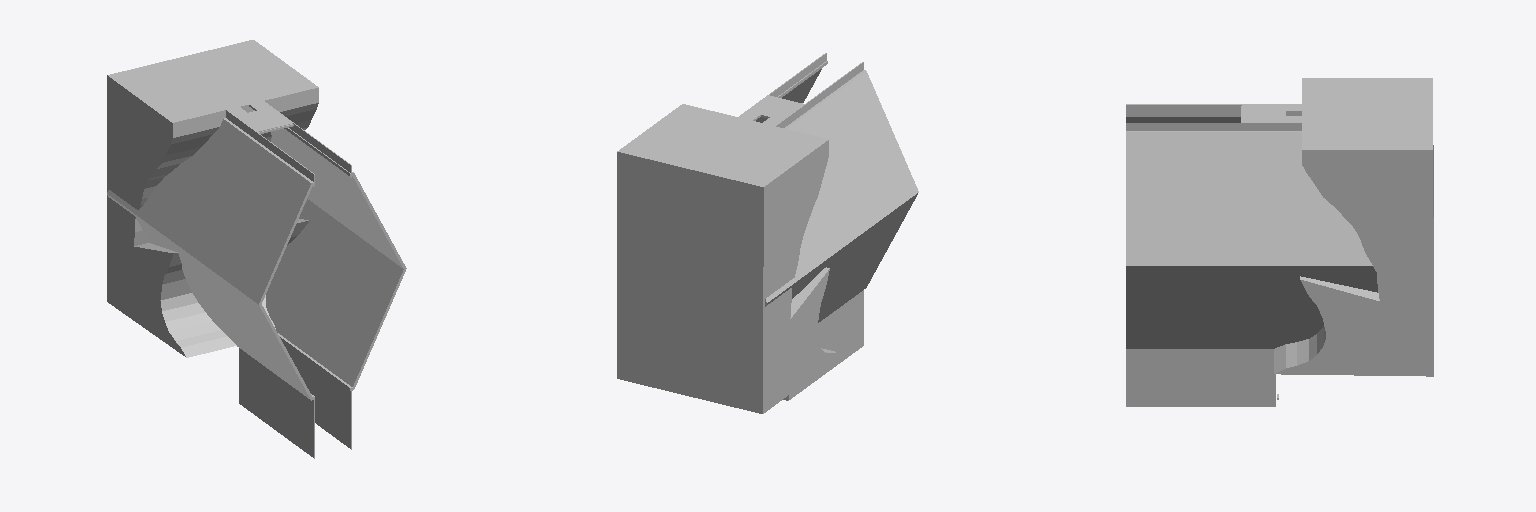
File: room.obj
3 views of the same model, side by side, from view 1: azimuth 30°, elevation 25°; view 2: azimuth 150°, elevation 25°; view 3: azimuth 270°, elevation 25° (orthographic).
Visible parts, largest first — view 1: obj_5, obj_4; view 2: obj_4, obj_5; view 3: obj_5, obj_4.
Part boxes in pixels (bbox=[...]): obj_5: bbox=[107, 98, 406, 458]; obj_4: bbox=[107, 40, 318, 357]; obj_4: bbox=[617, 104, 842, 413]; obj_5: bbox=[733, 53, 918, 400]; obj_5: bbox=[1126, 104, 1377, 406]; obj_4: bbox=[1274, 78, 1433, 376].
Bounding box in the file's own units: 469 × 860 × 845.